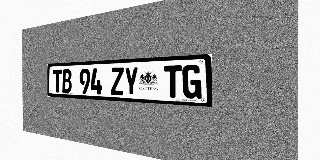4: (90, 68, 102, 94)
9: (79, 68, 90, 94)
B: (62, 69, 72, 93)
G: (182, 64, 201, 99)
T: (164, 65, 182, 98), (53, 69, 62, 93)
Y: (124, 67, 138, 96)
Z: (111, 67, 124, 95)
